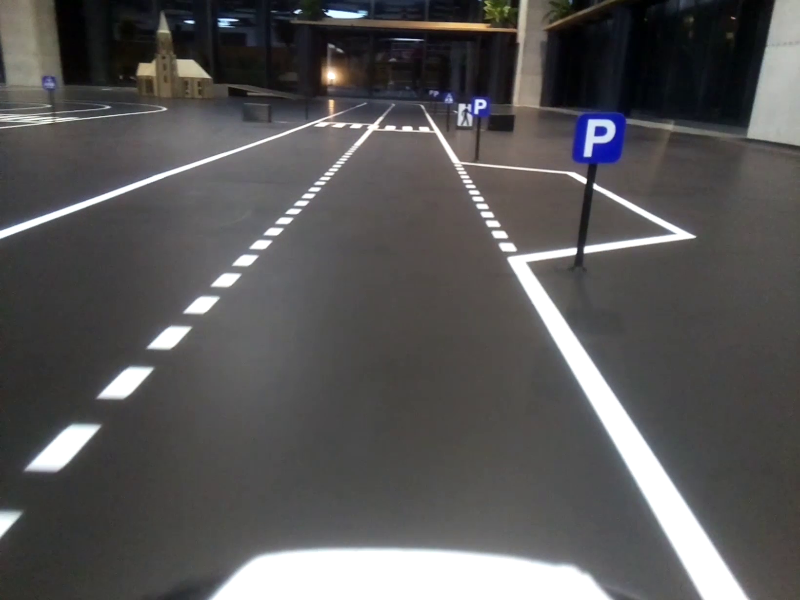park: (577, 113, 620, 166)
